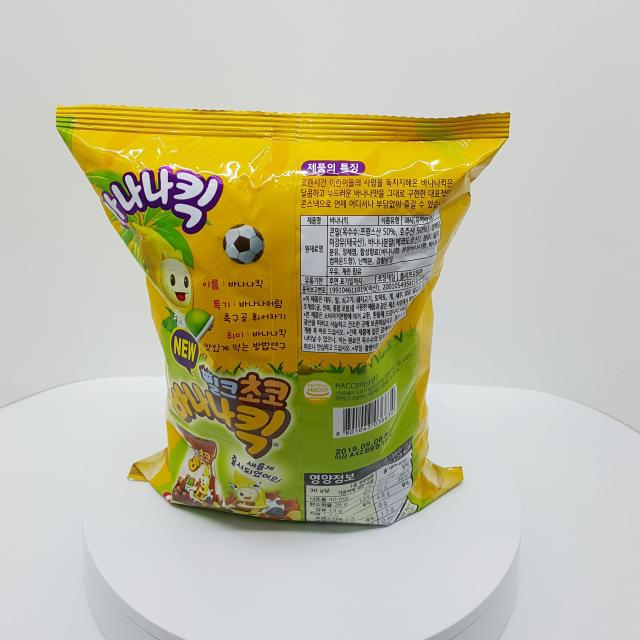-75G: (57, 106, 511, 527)
